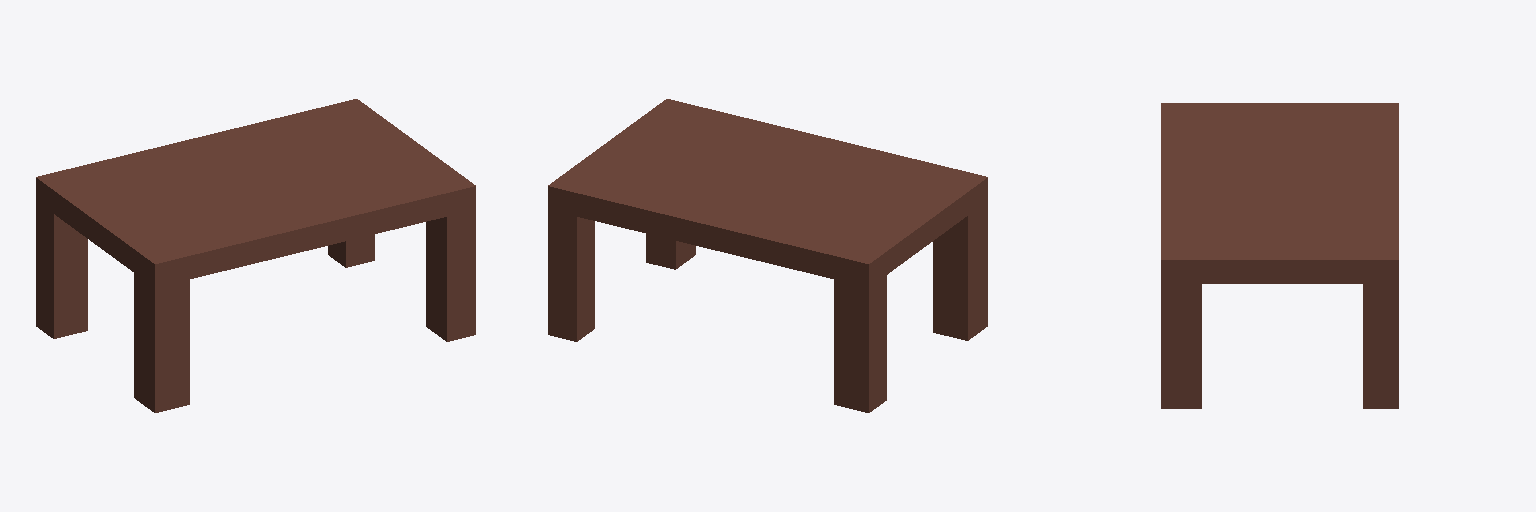
File: table.obj
3 views of the same model, side by side, from view 1: azimuth 30°, elevation 25°; view 2: azimuth 150°, elevation 25°; view 3: azimuth 270°, elevation 25° (orthographic).
Visible parts, largest first — view 1: pCube1; view 2: pCube1; view 3: pCube1.
Part boxes in pixels (x1,y1,x2,y2): pCube1: (36, 99, 475, 412); pCube1: (548, 99, 987, 412); pCube1: (1161, 103, 1398, 408).
Size of the model in its own units: 5.02 by 2.22 by 3.23.